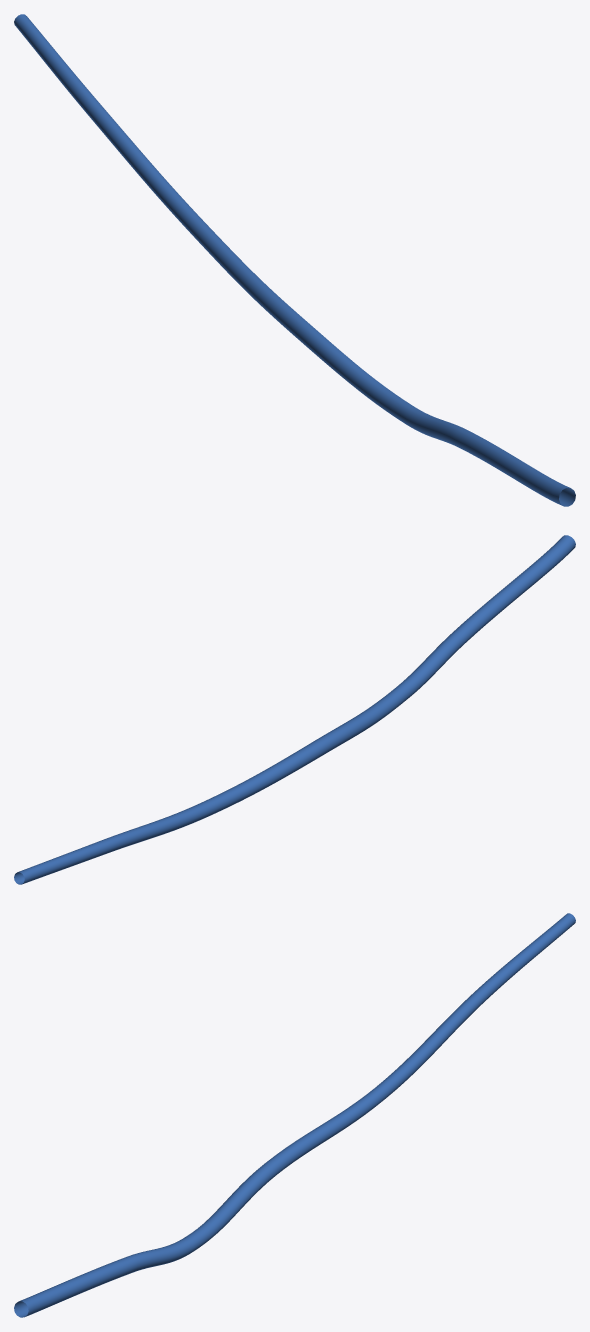
3 renders of one model, top to bottom at view 1: azimuth 30°, elevation 25°; view 2: azimuth 150°, elevation 25°; view 3: azimuth 330°, elevation 25°, orthographic. The views are drawn at different scales.
Visible parts, largest first — view 1: 左侧腹壁上静脉; view 2: 左侧腹壁上静脉; view 3: 左侧腹壁上静脉.
Part boxes in pixels (<box>): 左侧腹壁上静脉: <box>14,14,575,506</box>; 左侧腹壁上静脉: <box>14,535,575,884</box>; 左侧腹壁上静脉: <box>14,913,575,1317</box>.
Bounding box in the file's own units: 0.0137 × 0.0211 × 0.2309.
